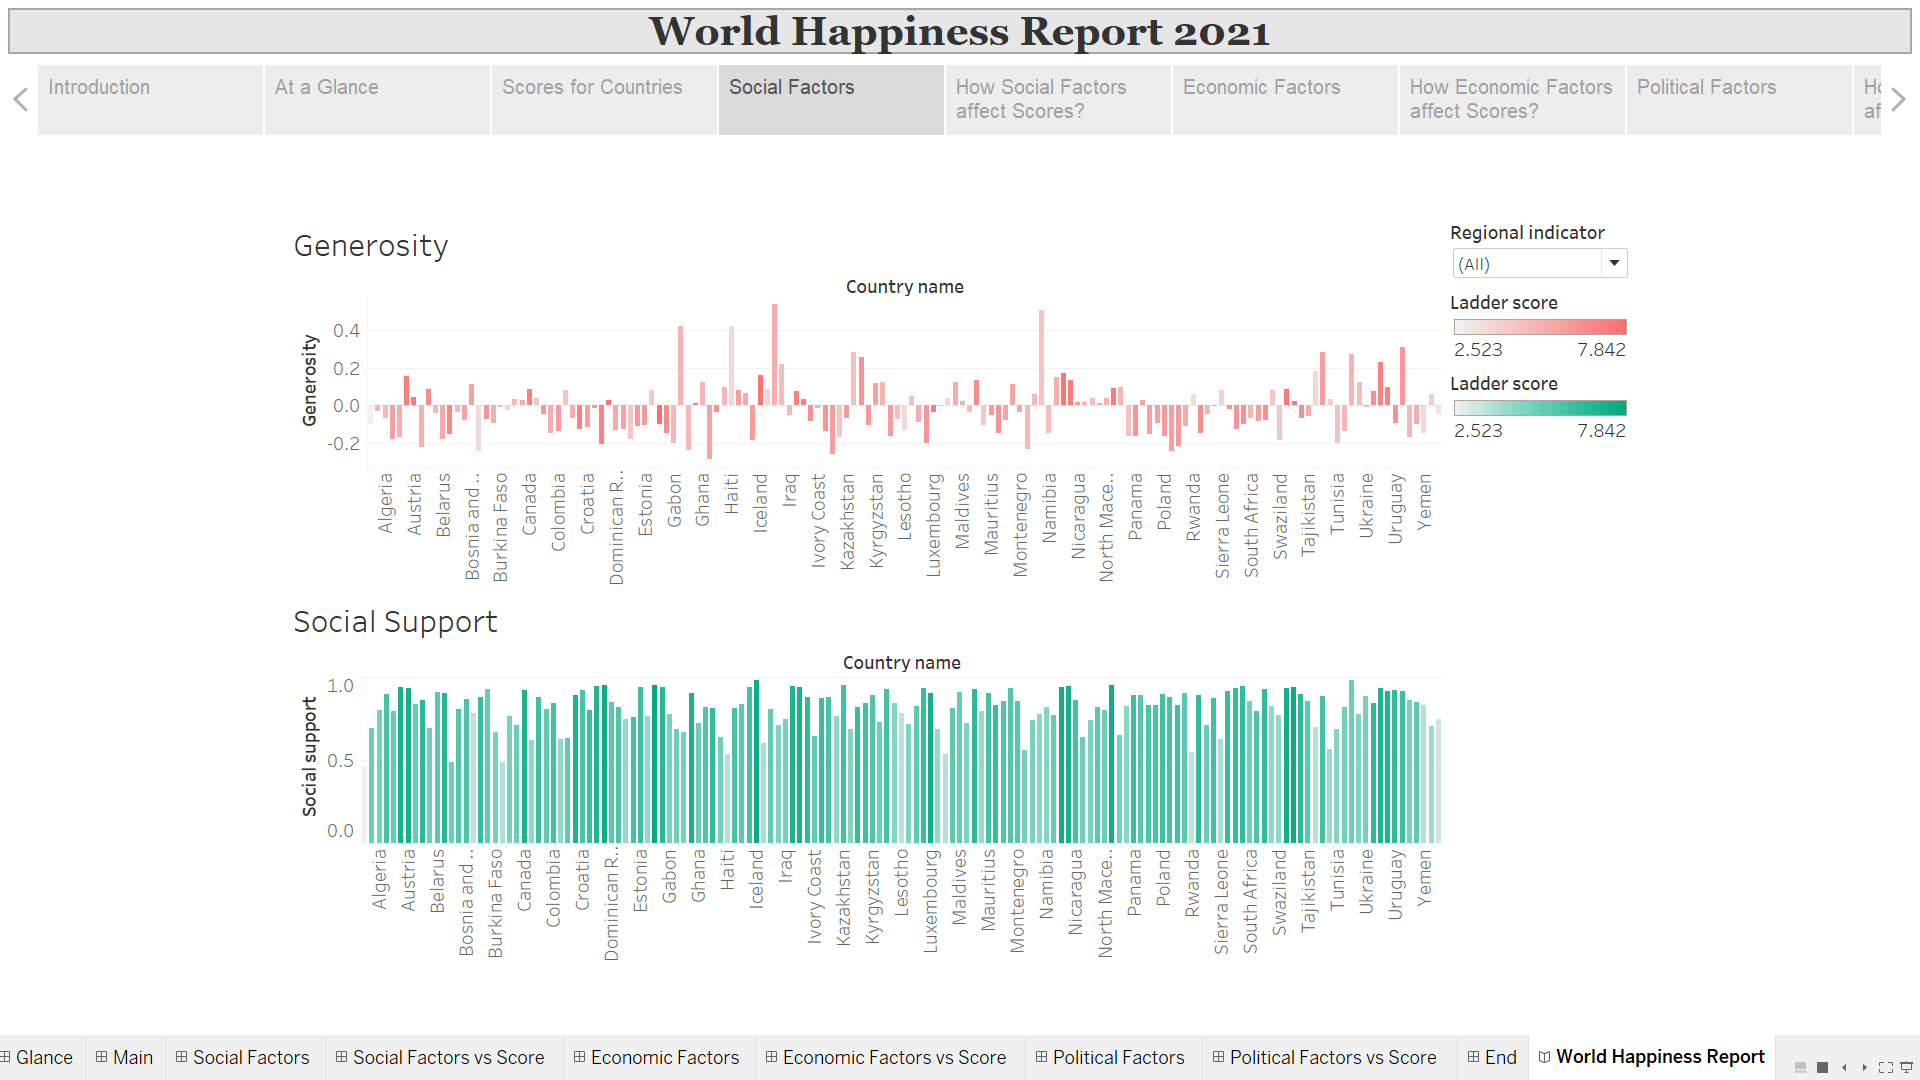

The page's visual inventory and layout, read from the dashboard file:
{"tool":"tableau","page":{"name":"Social Factors","canvas":[1366,768],"ordinal":8},"visuals":[{"type":"worksheet","title":"Generosity","mark":"Automatic","rows":["Generosity"],"cols":["Country name"],"box":[8,8,1161,376]},{"type":"filter","title":"Generosity","param":"[federated.16lhggg14e2l4v177vae709t3t9u].[none:Regional indicator:nk]","box":[1169,8,189,70]},{"type":"legend","title":"Generosity","param":"[federated.16lhggg14e2l4v177vae709t3t9u].[sum:Ladder score:qk]","box":[1169,78,189,81]},{"type":"legend","title":"Social Support","param":"[federated.16lhggg14e2l4v177vae709t3t9u].[sum:Ladder score:qk]","box":[1169,159,189,81]},{"type":"worksheet","title":"Social Support","mark":"Automatic","rows":["Social support"],"cols":["Country name"],"box":[8,384,1161,376]}]}

Visuals, with their boxes on the page's 1366x768 design canvas (x1, y1, x2, y2). These are canvas units, not pixel positions in the 1920x1080 screenshot, which may show the page scaled, cropped or inside an application window:
"Generosity" worksheet: box(8, 8, 1169, 384)
"Generosity" filter: box(1169, 8, 1358, 78)
"Generosity" legend: box(1169, 78, 1358, 159)
"Social Support" legend: box(1169, 159, 1358, 240)
"Social Support" worksheet: box(8, 384, 1169, 760)
